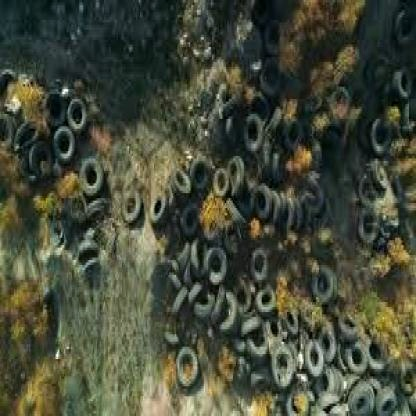tire: (163, 247, 402, 416), (180, 153, 316, 218), (6, 84, 84, 171), (351, 119, 391, 250), (244, 25, 280, 156), (387, 14, 416, 144), (154, 171, 191, 228), (115, 181, 147, 228), (73, 151, 104, 198)
